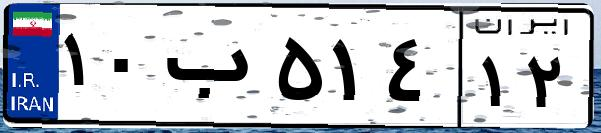0: (110, 28, 158, 98)
1: (330, 28, 385, 110), (57, 26, 110, 100), (475, 38, 525, 113)
2: (525, 38, 570, 115)
4: (385, 28, 445, 110)
5: (270, 28, 330, 110)
ب: (158, 20, 270, 120)
